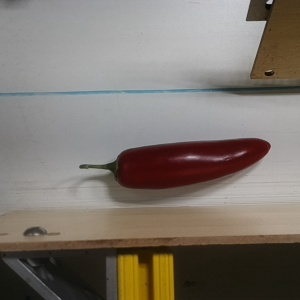Cut Point: (106, 148, 132, 188)
